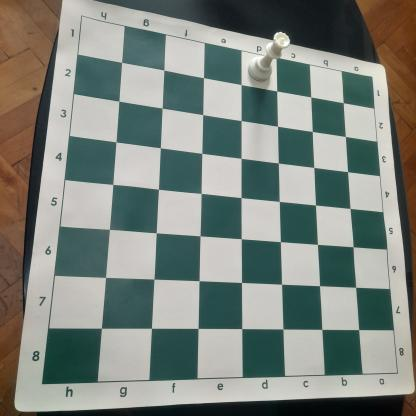white-queen: (247, 30, 290, 83)
